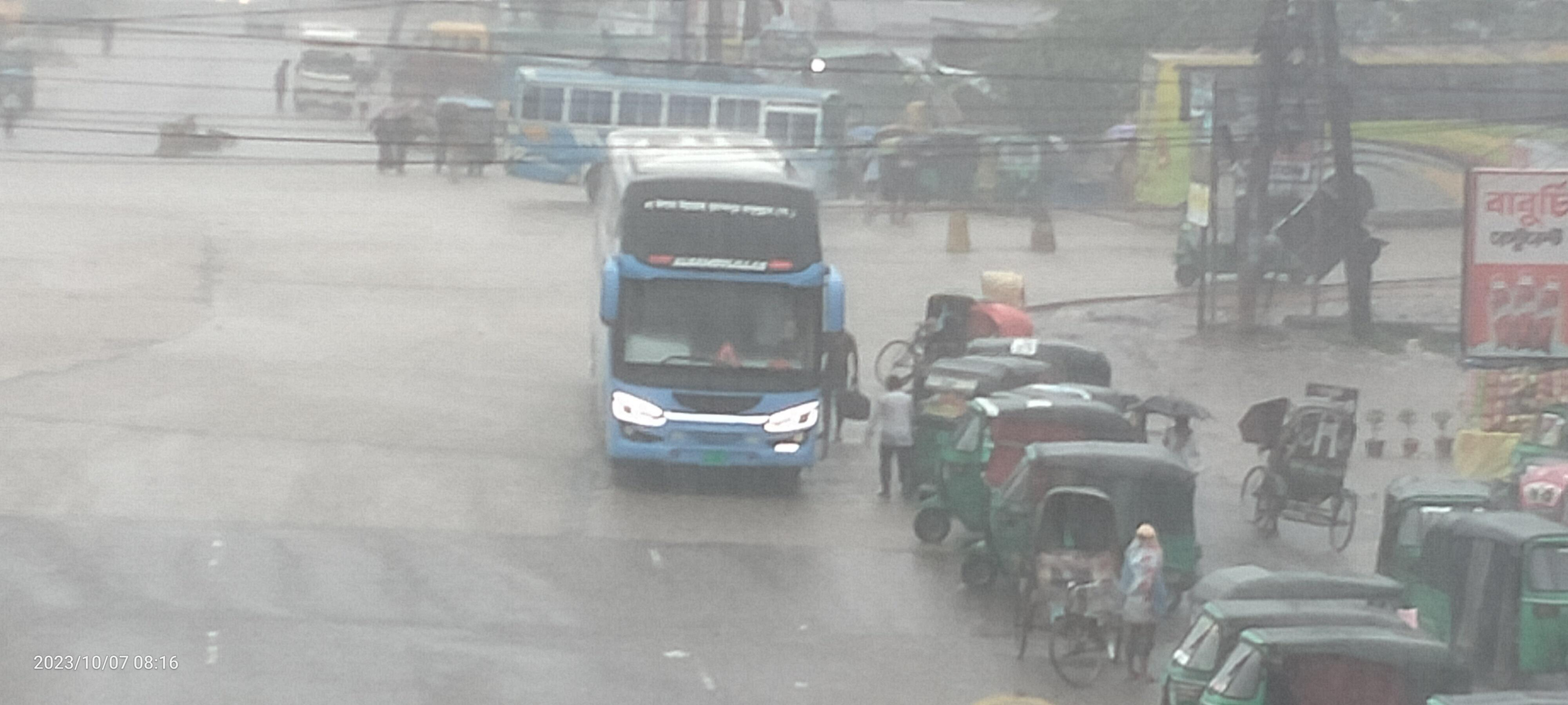Bus: (569, 127, 847, 503), (497, 58, 856, 213)
Car: (1011, 479, 1145, 705), (1237, 400, 1380, 558), (282, 30, 372, 135), (422, 94, 506, 180)
